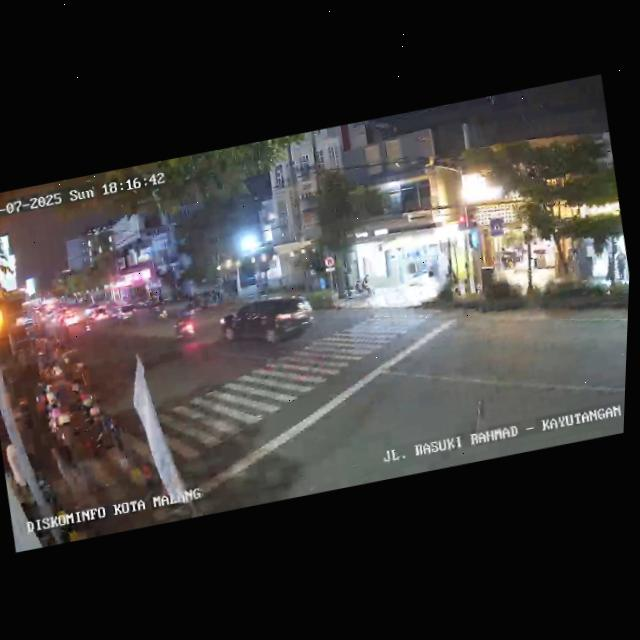car: (217, 286, 320, 355), (110, 302, 139, 326)
motorcycle: (170, 308, 199, 344), (151, 298, 171, 323)
person: (612, 248, 629, 283)
